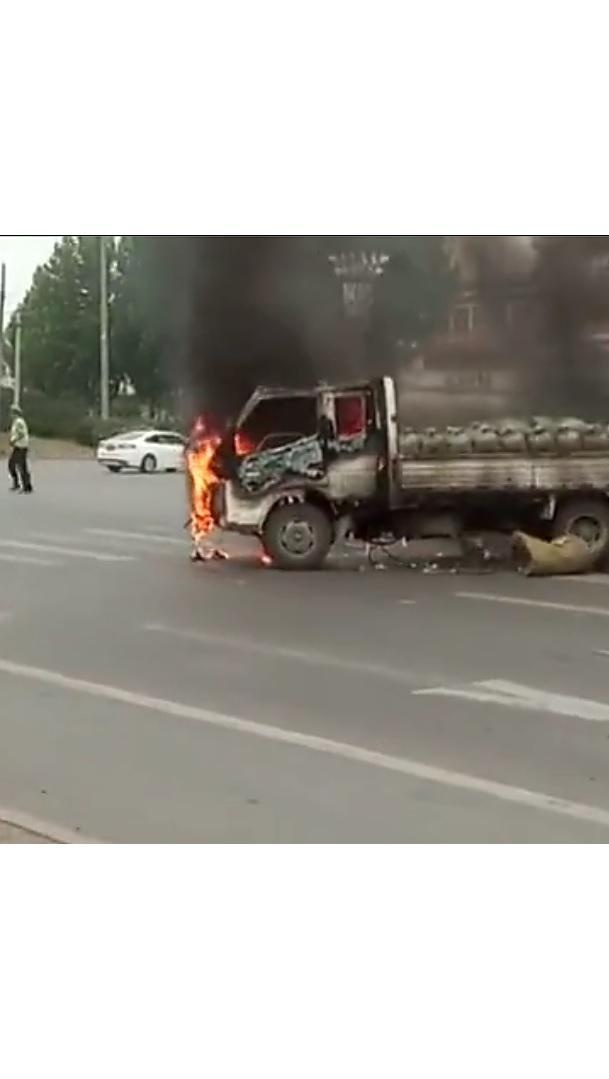fire: (186, 429, 220, 530)
